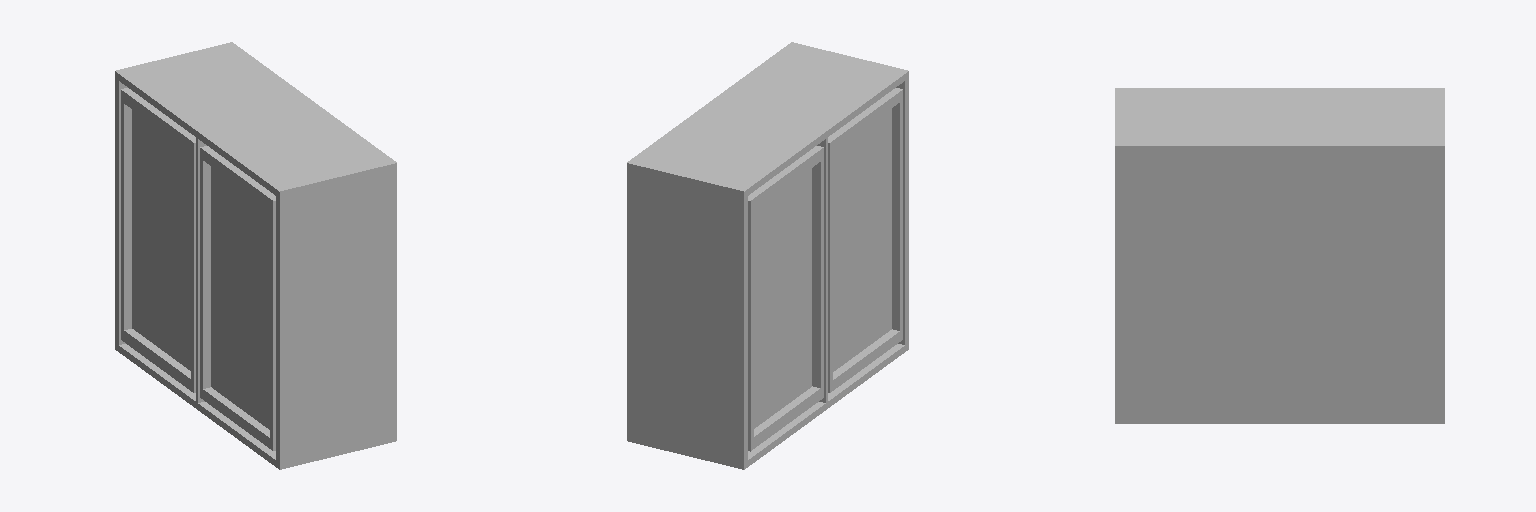
Rendered from shelf.obj.
3 views of the same model, side by side, from view 1: azimuth 30°, elevation 25°; view 2: azimuth 150°, elevation 25°; view 3: azimuth 270°, elevation 25° (orthographic).
Visible parts, largest first — view 1: polySurface9 polySurface5 Room:Room:polySurface4; view 2: polySurface9 polySurface5 Room:Room:polySurface4; view 3: polySurface9 polySurface5 Room:Room:polySurface4.
Part boxes in pixels (left/top/right/bottom): polySurface9 polySurface5 Room:Room:polySurface4: left=115, top=42, right=396, bottom=469; polySurface9 polySurface5 Room:Room:polySurface4: left=627, top=42, right=908, bottom=469; polySurface9 polySurface5 Room:Room:polySurface4: left=1115, top=88, right=1444, bottom=423.
Bounding box in the file's own units: 0.5526 × 1.25 × 1.34.